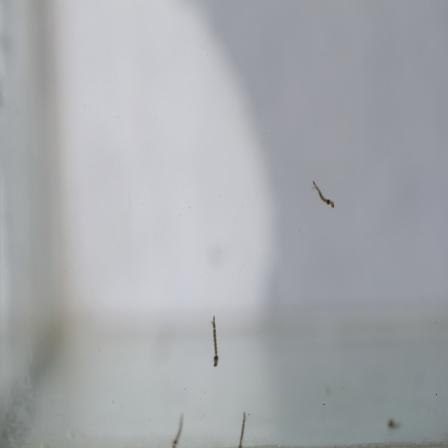Jentik-Nyamuk: (206, 314, 225, 371), (311, 177, 338, 212)
